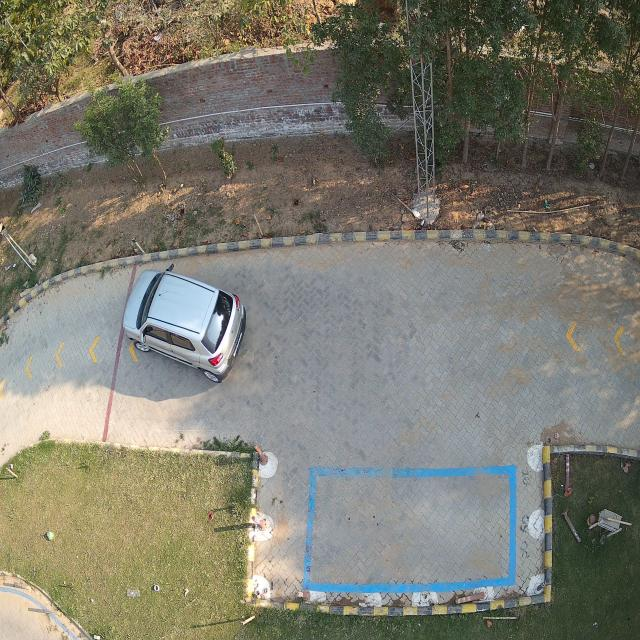car: (122, 269, 247, 383)
